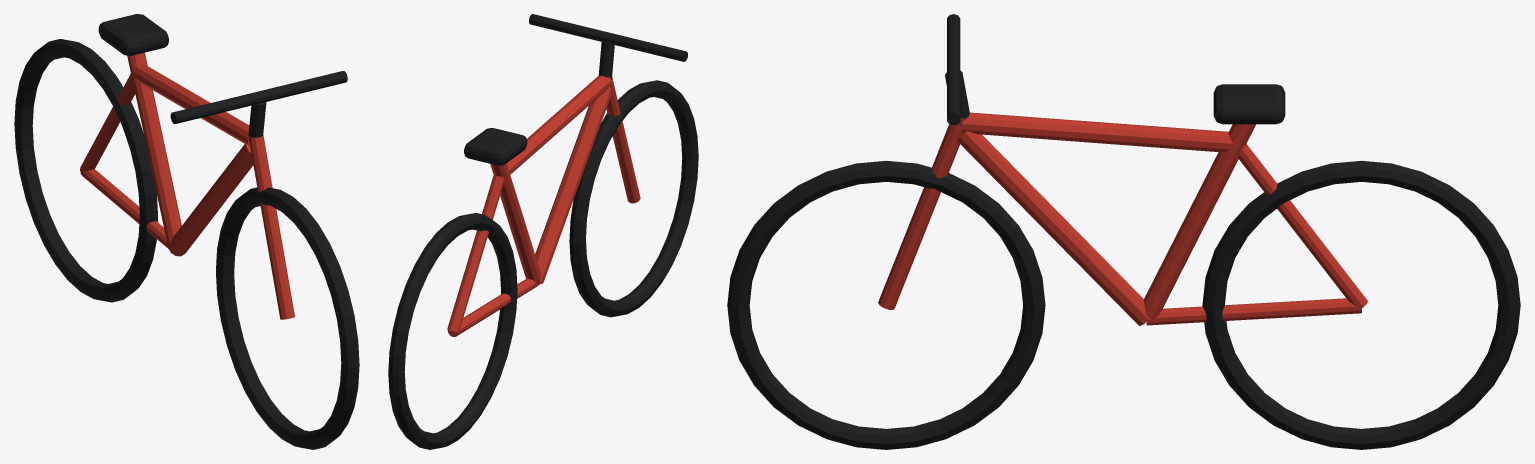
File: sykkel.glb
The picture shows the model from 3 angles, left to right: view 1: azimuth 30°, elevation 25°; view 2: azimuth 150°, elevation 25°; view 3: azimuth 270°, elevation 25°; orthographic projection. The views are drawn at different scales.
Visible parts, largest first — view 1: Torus, Torus.001, Seterør, Gaffel, Skrårør, Styre, Overrør, Sete, Kjede, Setestag, Styrestamme; view 2: Torus.001, Torus, Skrårør, Overrør, Seterør, Setestag, Styre, Sete, Gaffel, Kjede, Styrestamme; view 3: Torus, Torus.001, Overrør, Skrårør, Seterør, Gaffel, Kjede, Setestag, Sete, Styre.
Boxes of the visible parts, x1,y1,x2,y2 form: Torus: (216,187,359,449); Torus.001: (14,39,157,302); Seterør: (127,52,181,249); Gaffel: (248,134,294,319); Skrårør: (168,143,253,256); Styre: (170,71,347,123); Overrør: (132,65,249,146); Sete: (98,14,168,55); Kjede: (80,169,168,248); Setestag: (80,74,135,172); Styrestamme: (248,102,266,140); Torus.001: (388,213,517,449); Torus: (569,80,698,317); Skrårør: (535,87,613,283); Overrør: (506,75,611,174); Seterør: (490,163,541,285); Setestag: (447,175,504,332); Styre: (529,14,687,61); Sete: (464,128,527,165); Gaffel: (598,74,640,203); Kjede: (447,278,537,336); Styrestamme: (599,41,614,79); Torus: (727,160,1045,449); Torus.001: (1202,160,1520,449); Overrør: (962,112,1236,152); Skrårør: (957,131,1149,325); Seterør: (1144,124,1255,323); Gaffel: (878,117,966,309); Kjede: (1146,298,1361,325); Setestag: (1238,144,1367,307); Sete: (1213,84,1285,124); Styre: (947,14,960,125).
Bounding box in the file's own units: 0.52 × 0.951 × 1.77.
